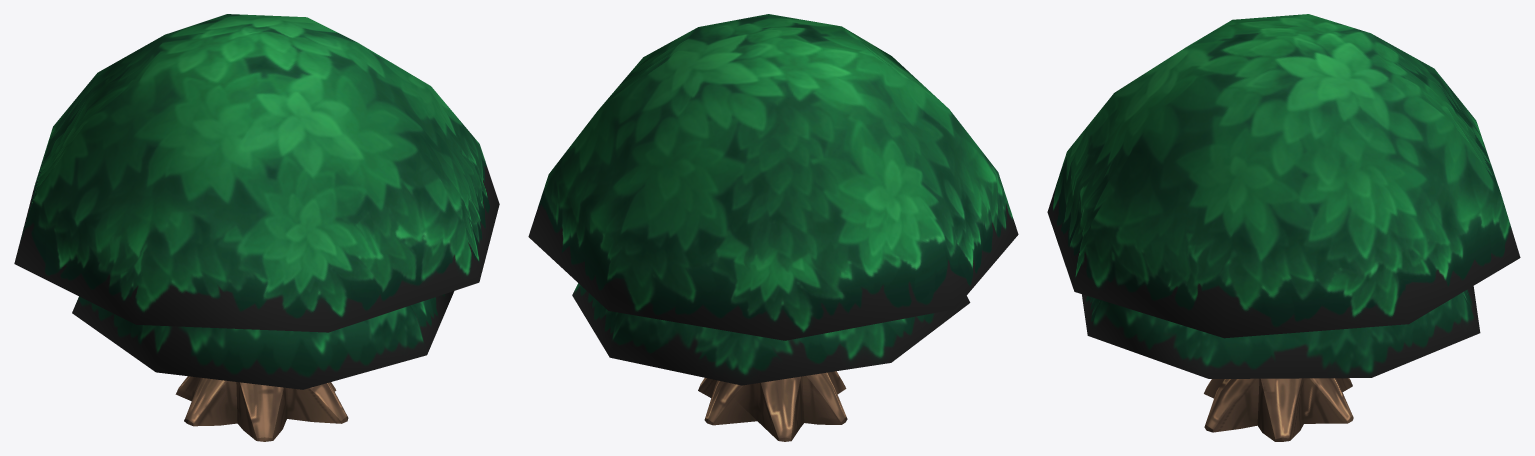
Rendered from TreeGreen1.fbx.
3 renders of one model, left to right at view 1: azimuth 30°, elevation 25°; view 2: azimuth 150°, elevation 25°; view 3: azimuth 270°, elevation 25°, orthographic.
Parts seen in each view (by area): view 1: pasted__pasted__pSphere27, pasted__pasted__pSphere26, pasted__pasted__pCylinder52; view 2: pasted__pasted__pSphere27, pasted__pasted__pSphere26, pasted__pasted__pCylinder52; view 3: pasted__pasted__pSphere27, pasted__pasted__pSphere26, pasted__pasted__pCylinder52.
Part boxes in pixels (left/top/right/bottom): pasted__pasted__pSphere27: left=14, top=14, right=499, bottom=332; pasted__pasted__pSphere26: left=72, top=291, right=454, bottom=389; pasted__pasted__pCylinder52: left=175, top=376, right=348, bottom=441; pasted__pasted__pSphere27: left=528, top=14, right=1018, bottom=340; pasted__pasted__pSphere26: left=572, top=283, right=970, bottom=385; pasted__pasted__pCylinder52: left=698, top=371, right=847, bottom=441; pasted__pasted__pSphere27: left=1047, top=14, right=1520, bottom=338; pasted__pasted__pSphere26: left=1082, top=286, right=1480, bottom=378; pasted__pasted__pCylinder52: left=1204, top=378, right=1353, bottom=441.
Bounding box in the file's own units: 8.34 × 6.93 × 8.07.
